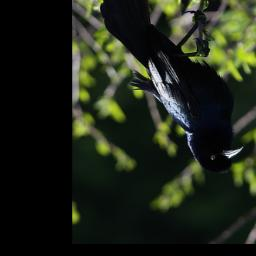Crow: (100, 0, 245, 176)
